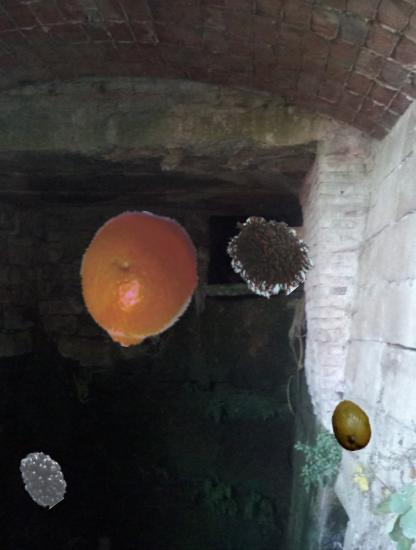Mulberry: (14, 449, 72, 507)
Papaya: (325, 399, 378, 452)
Rambutan: (224, 210, 313, 299)
Tangelo: (71, 211, 209, 349)
